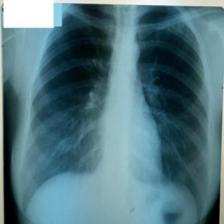tuberculosis: (26, 4, 211, 224)
